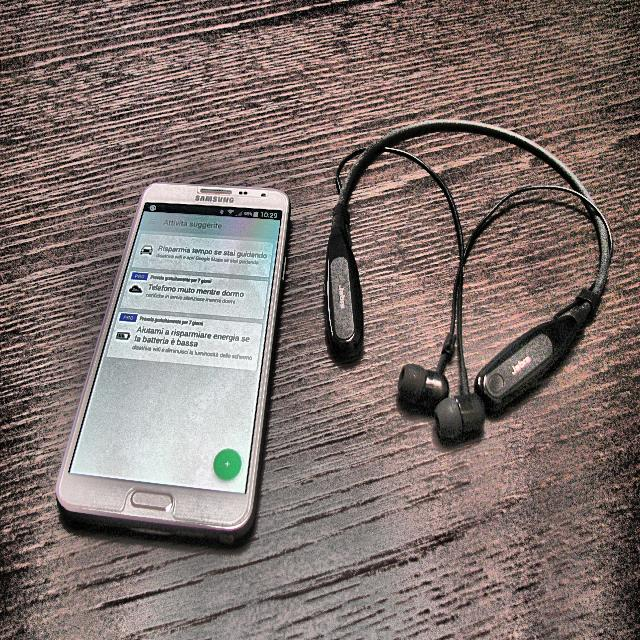Bluetooth headphones: (324, 120, 612, 441)
PHONE: (56, 184, 289, 541)
